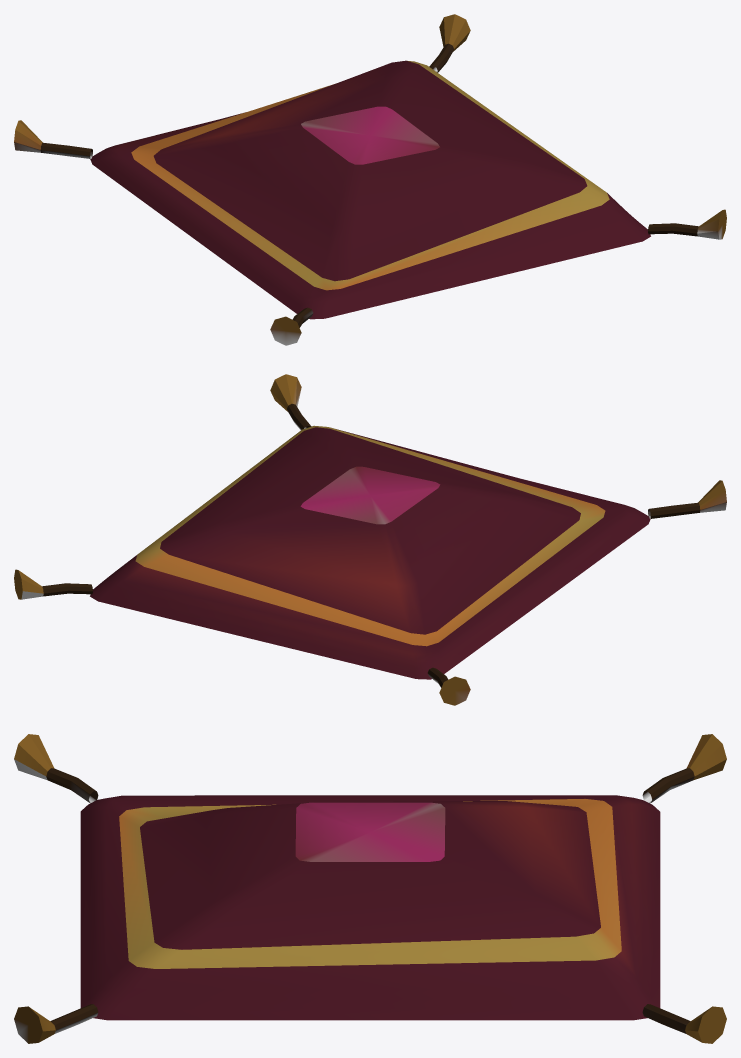
File: mv_chair.fbx
The picture shows the model from 3 angles, top to bottom: view 1: azimuth 30°, elevation 25°; view 2: azimuth 150°, elevation 25°; view 3: azimuth 270°, elevation 25°; orthographic projection. The views are drawn at different scales.
Parts seen in each view (by area): view 1: mv_chair_01; view 2: mv_chair_01; view 3: mv_chair_01.
Part boxes in pixels (bbox=[...]): mv_chair_01: bbox=[14, 14, 726, 345]; mv_chair_01: bbox=[14, 374, 726, 705]; mv_chair_01: bbox=[14, 734, 726, 1043].
Size of the model in its own units: 0.5705 by 0.6033 by 0.0756.
